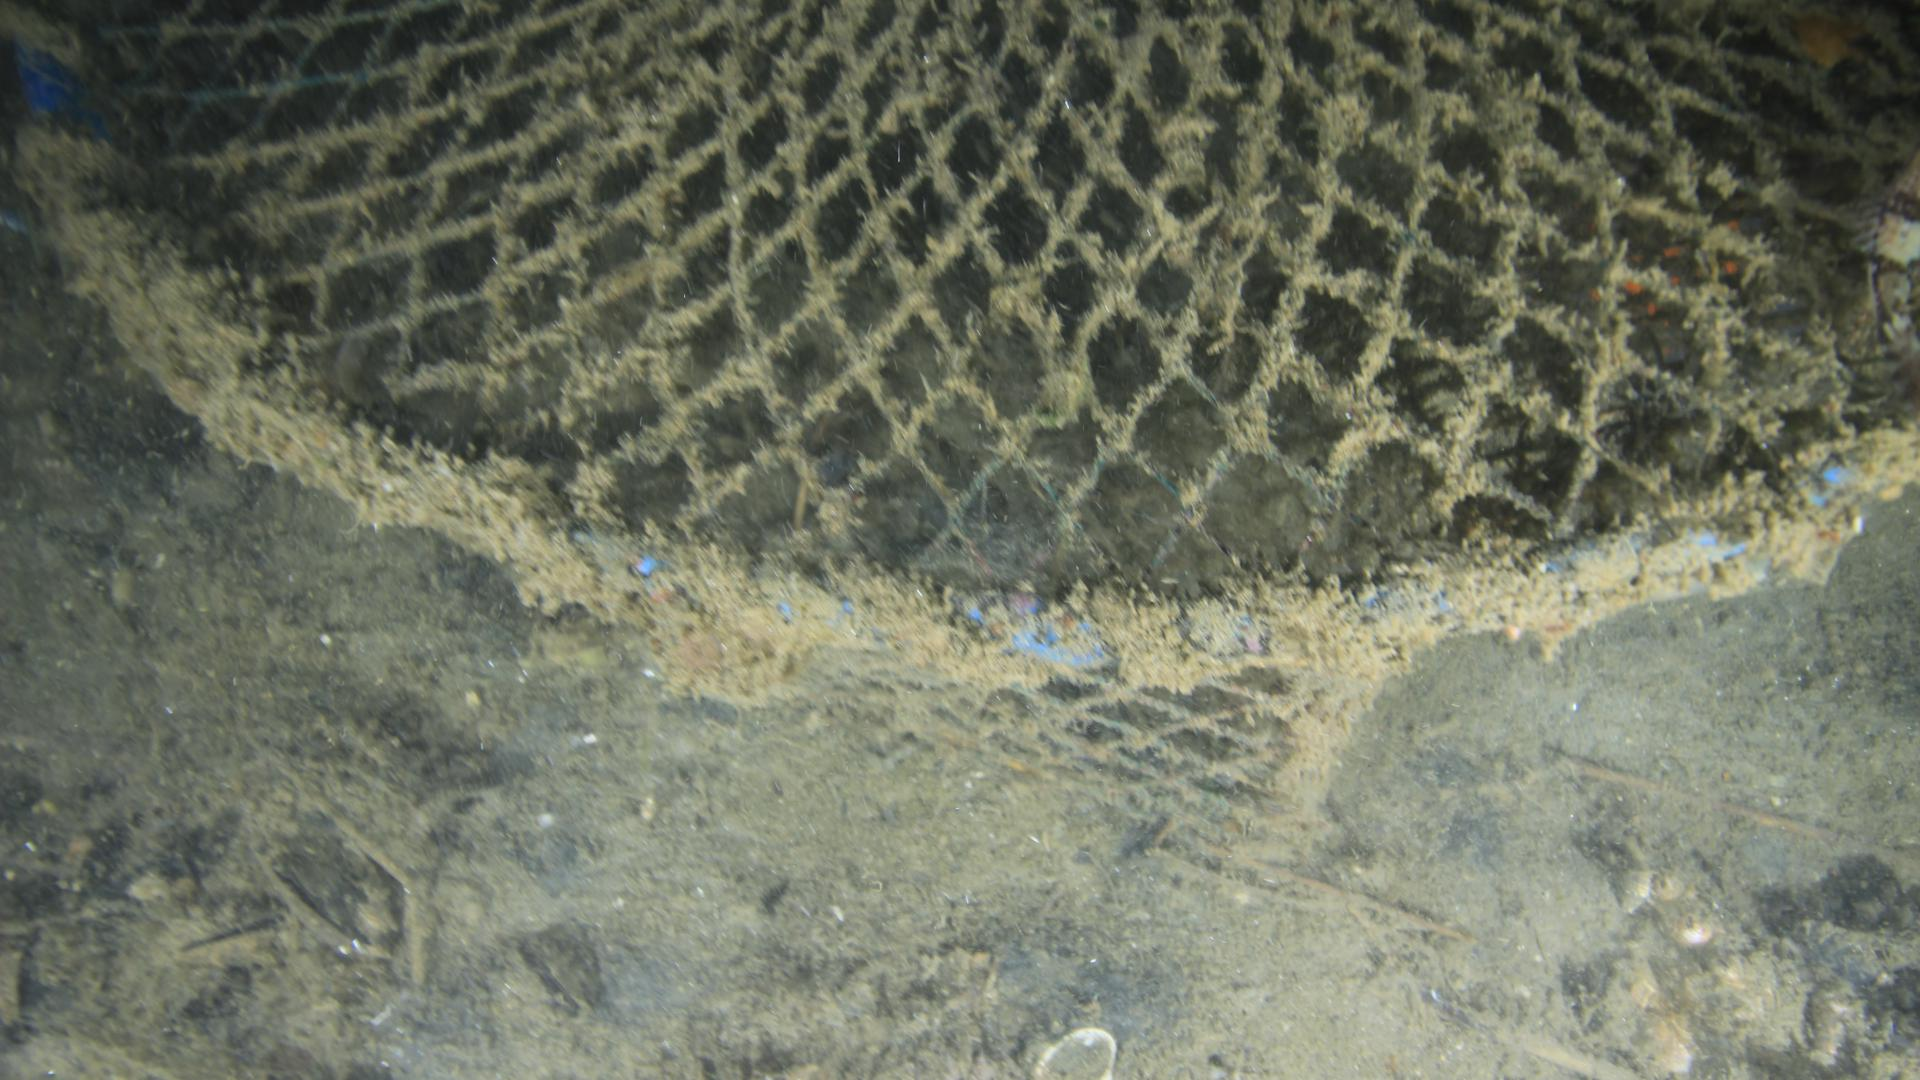circular fish trap: (0, 0, 1920, 815)
